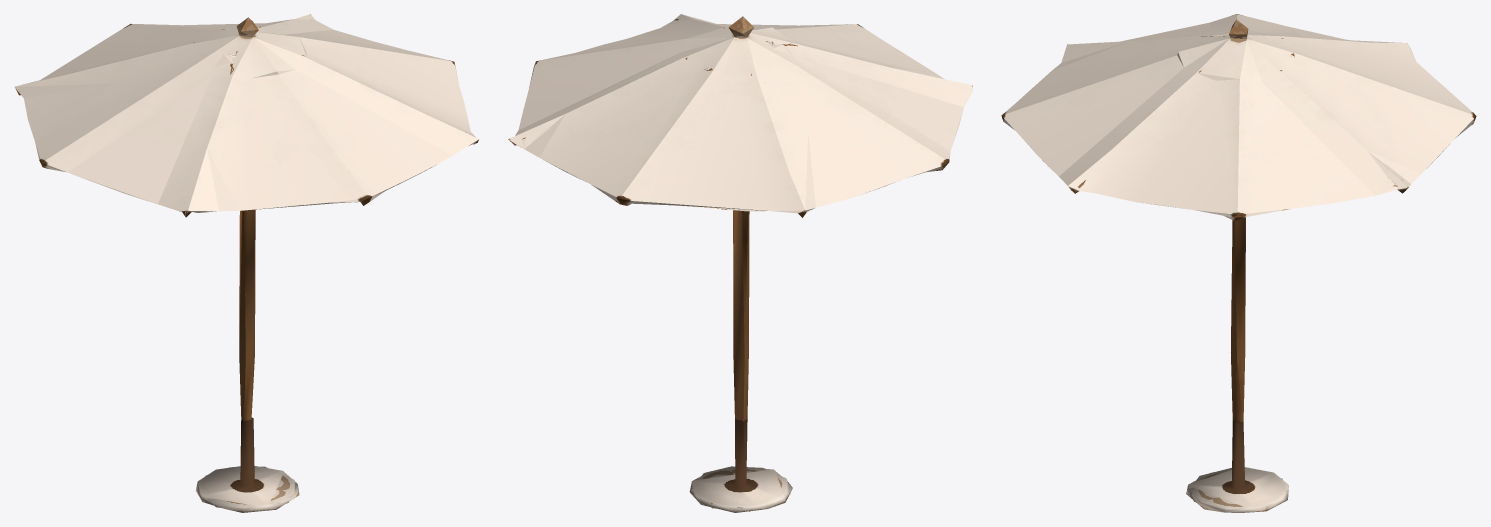
Rendered from umbrella_cafe.glb.
3 renders of one model, left to right at view 1: azimuth 30°, elevation 25°; view 2: azimuth 150°, elevation 25°; view 3: azimuth 270°, elevation 25°, orthographic.
Visible parts, largest first — view 1: body; view 2: body; view 3: body.
Boxes of the visible parts, <box> form: body: <box>15,14,479,512</box>; body: <box>508,14,972,512</box>; body: <box>1001,14,1476,512</box>.
Bounding box in the file's own units: 2.3 × 2.53 × 2.3.
1 material, 1 textured.
